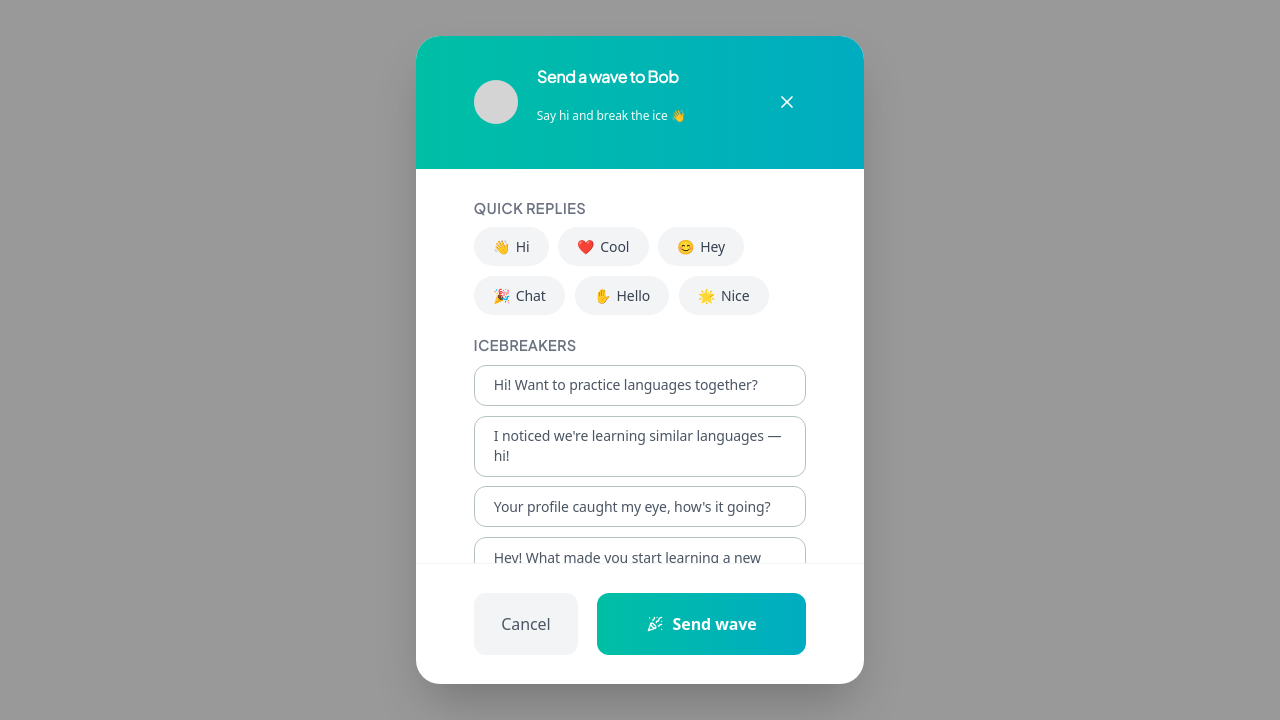
it: WaveSheet › the daily cap (community#8) › opens the VIP dialog instead of a toast on 429 wave_cap
Click the button with test id "wave-sheet-send".
click(702, 624)  # box [597, 593, 806, 655]
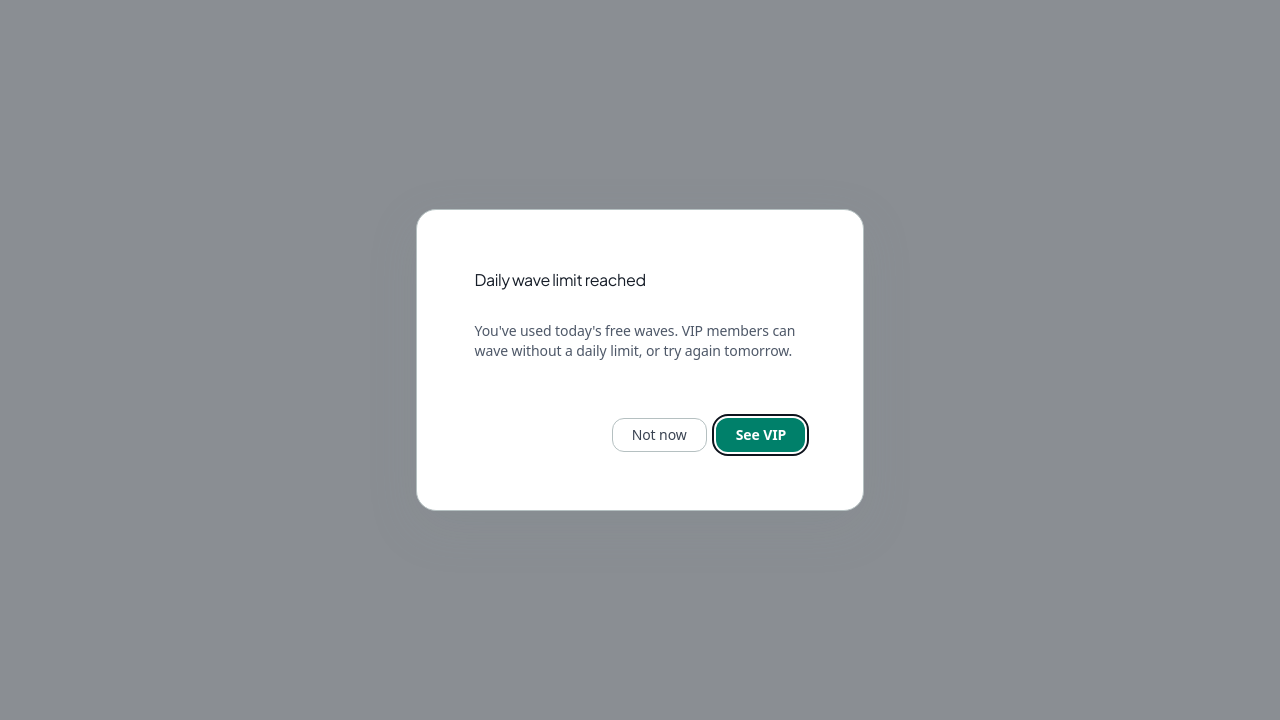
Now the heading "Daily wave limit reached" is shown, box [475, 269, 646, 290]
Now the element with test id "wave-sheet" is gone
